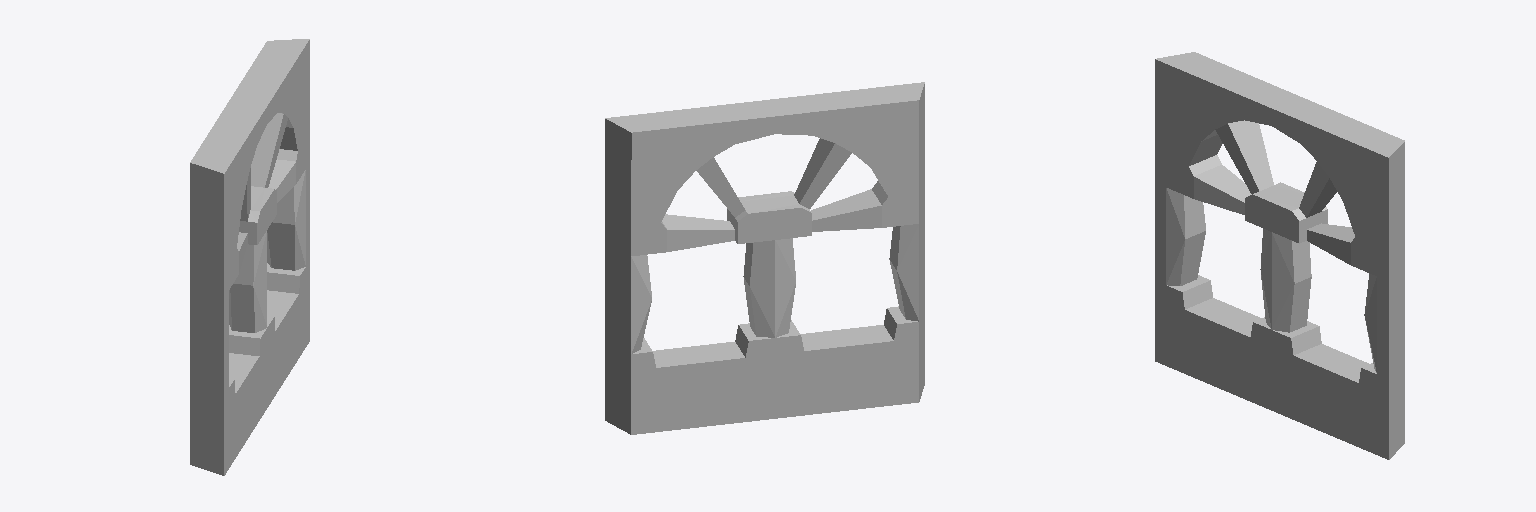
File: P_Modul_03_Wall07.obj
3 renders of one model, left to right at view 1: azimuth 30°, elevation 25°; view 2: azimuth 150°, elevation 25°; view 3: azimuth 270°, elevation 25°, orthographic.
Visible parts, largest first — view 1: P_Modul_03_Wall07; view 2: P_Modul_03_Wall07; view 3: P_Modul_03_Wall07.
Part boxes in pixels (x1,y1,x2,y2): P_Modul_03_Wall07: (190,39,309,475); P_Modul_03_Wall07: (605,82,924,434); P_Modul_03_Wall07: (1155,52,1404,459).
Size of the model in its own units: 5.48 by 7.28 by 5.47.